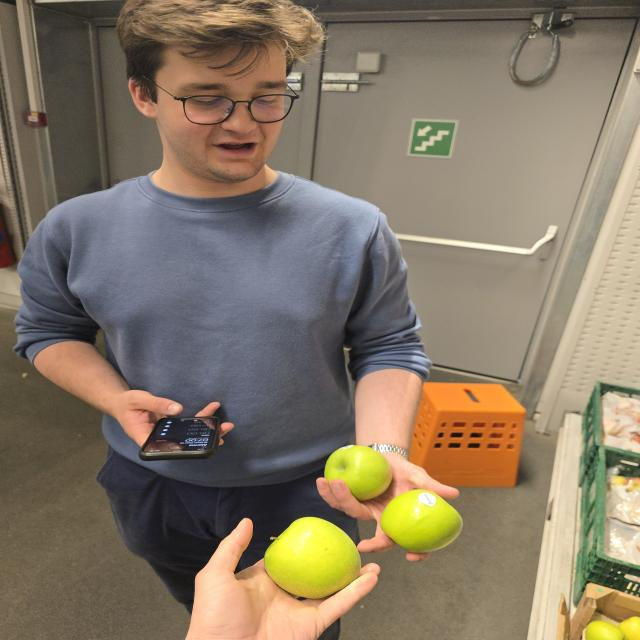Apple: (264, 518, 361, 599), (380, 490, 462, 553), (324, 445, 392, 502)
